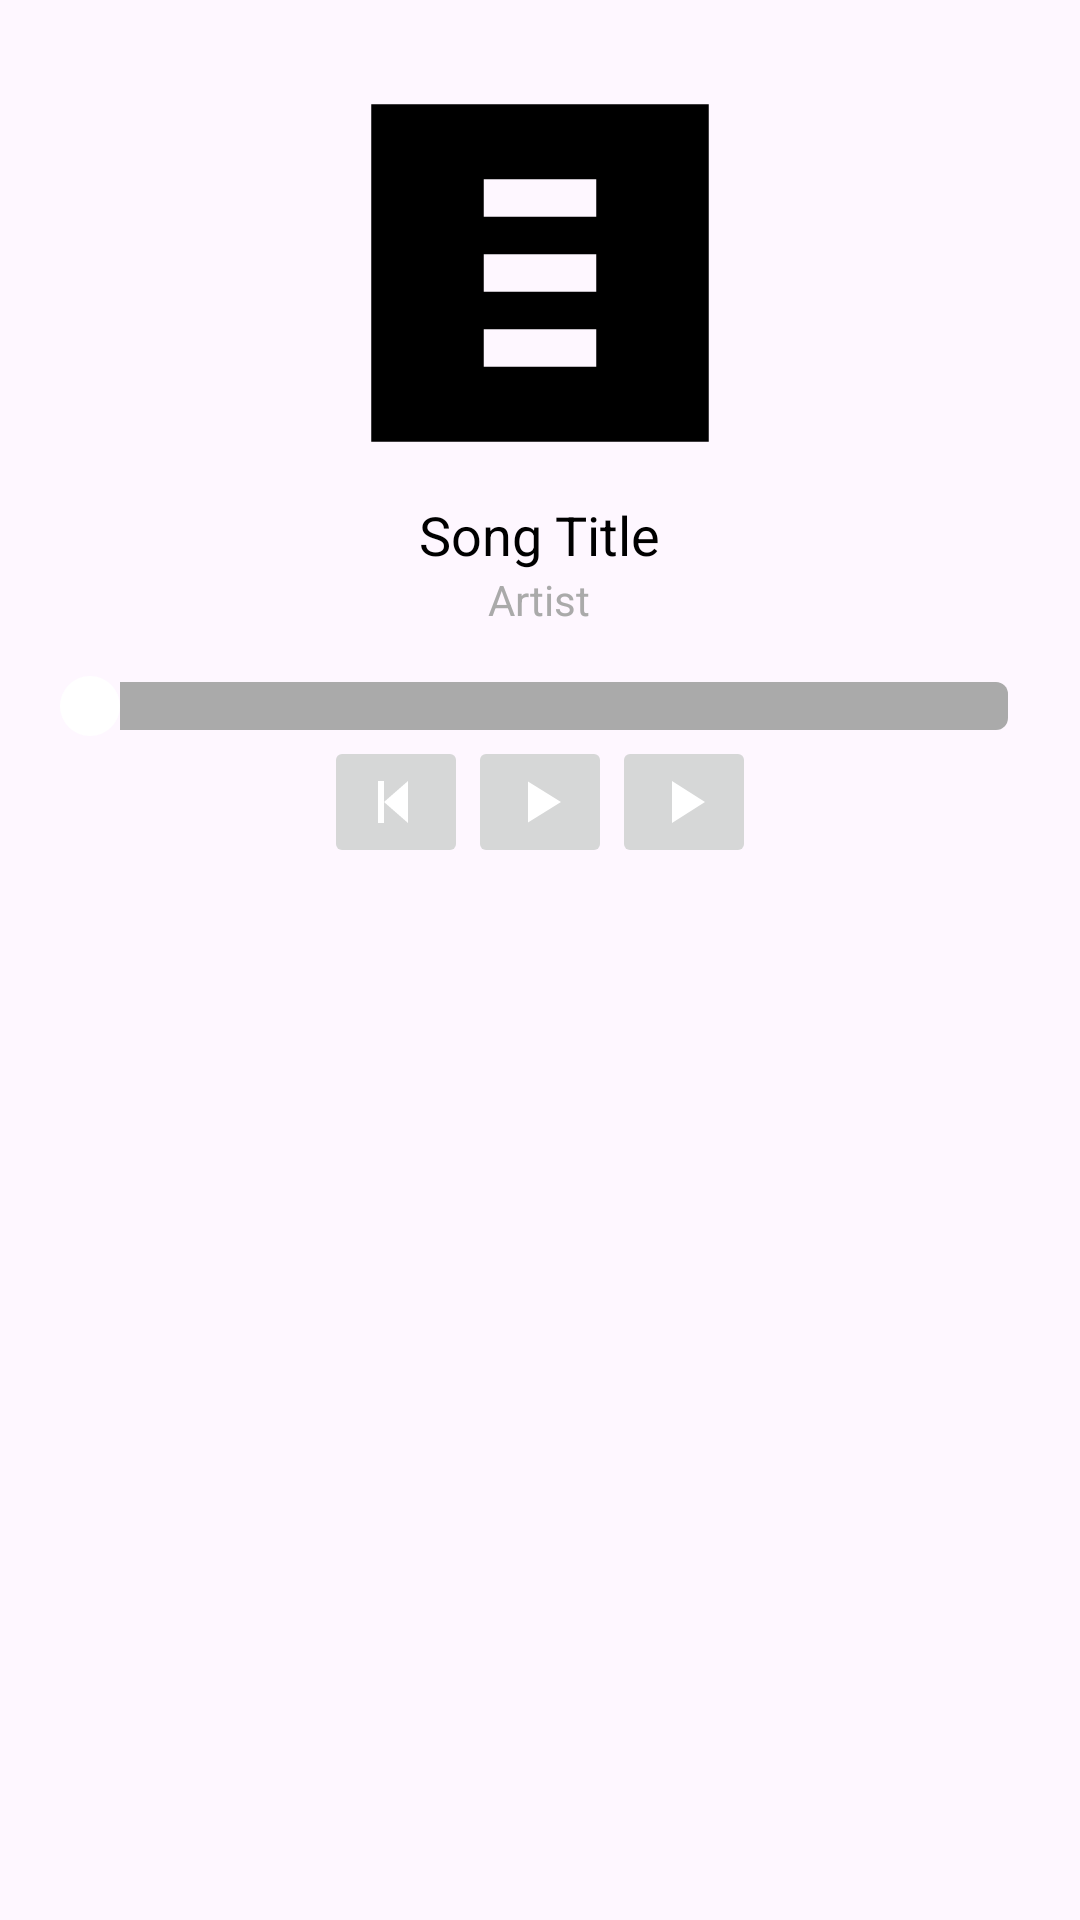

Where to tap for icons on this 1080 x 1920 app screen, as (x=x, y=y):
play pause: (x=540, y=802)
previous: (x=396, y=802)
